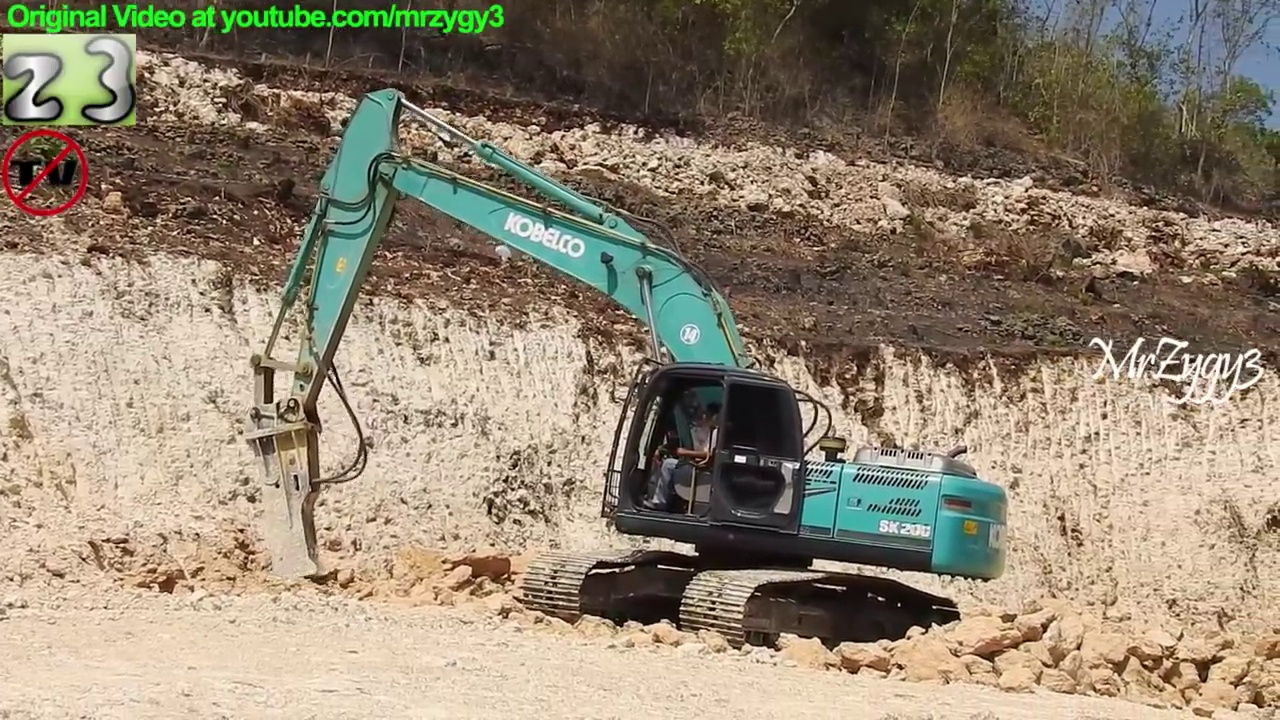excavator breaker: (237, 79, 1019, 674)
